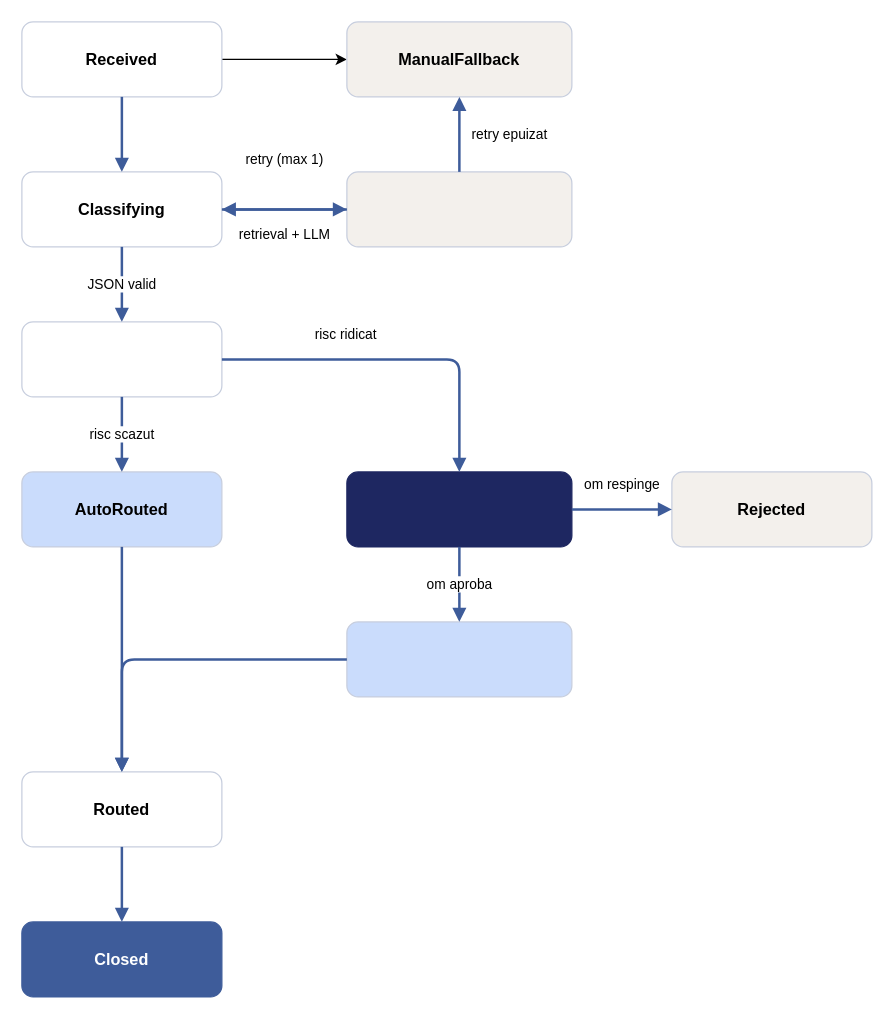
This 894x1019 diagram has some shape labels left out. Here are the shapes that lost their labels. From the top down, the centre of each, then its label:
At point (459, 209): "ValidationFailed".
At point (121, 359): "RiskEvaluated".
At point (459, 509): "PendingApproval".
At point (459, 659): "Approved".
